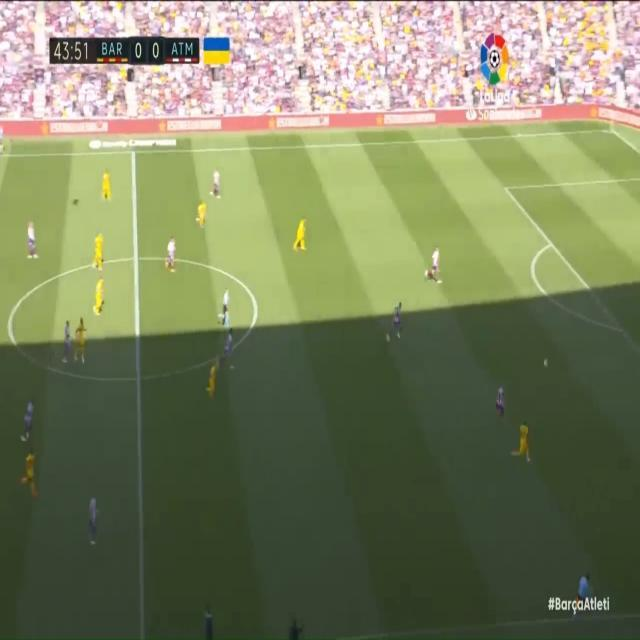ball: (542, 351, 552, 376)
player: (84, 491, 105, 554), (384, 300, 405, 344), (18, 396, 37, 444), (426, 243, 446, 288), (23, 449, 41, 498), (514, 422, 534, 466), (291, 216, 310, 259), (95, 167, 115, 206), (25, 216, 41, 264), (204, 368, 222, 407), (219, 330, 237, 368), (75, 318, 88, 370), (60, 320, 75, 365), (163, 232, 178, 274), (195, 192, 209, 231), (493, 384, 507, 420), (212, 167, 222, 202)
referee: (574, 571, 592, 622), (219, 283, 231, 326), (1, 122, 11, 164)
